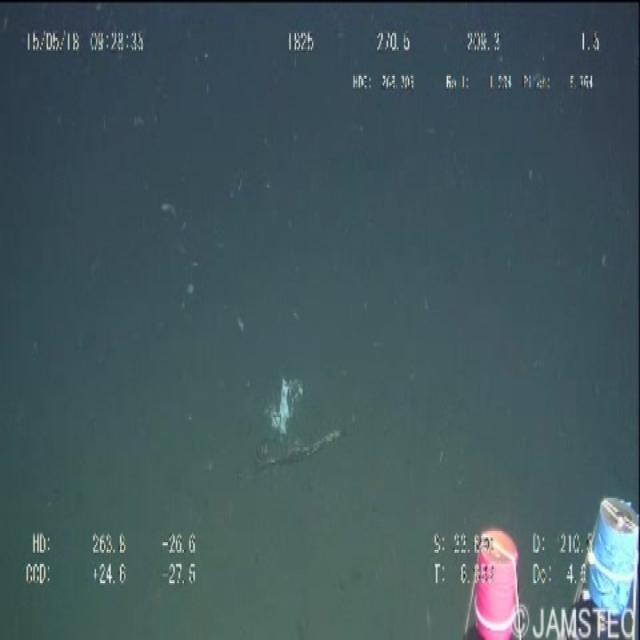Litter: (268, 376, 308, 432)
Wood: (247, 424, 368, 479)
